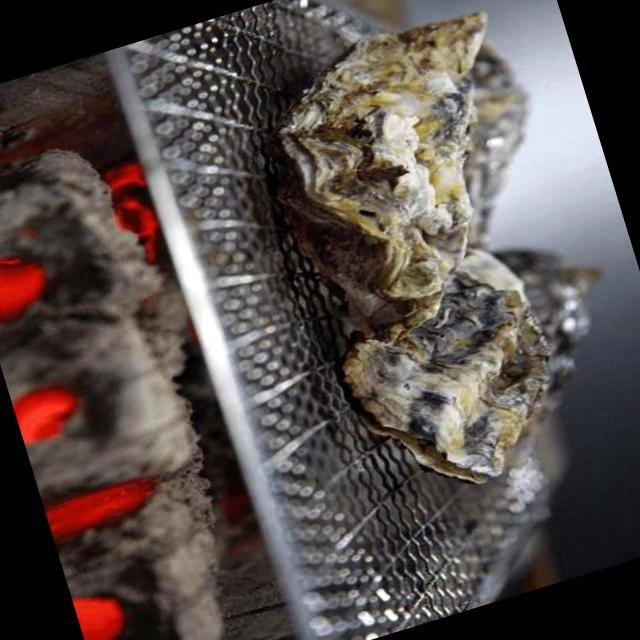Oyster-Closed: (276, 12, 489, 296)
Oyster-Open: (336, 270, 554, 486)
